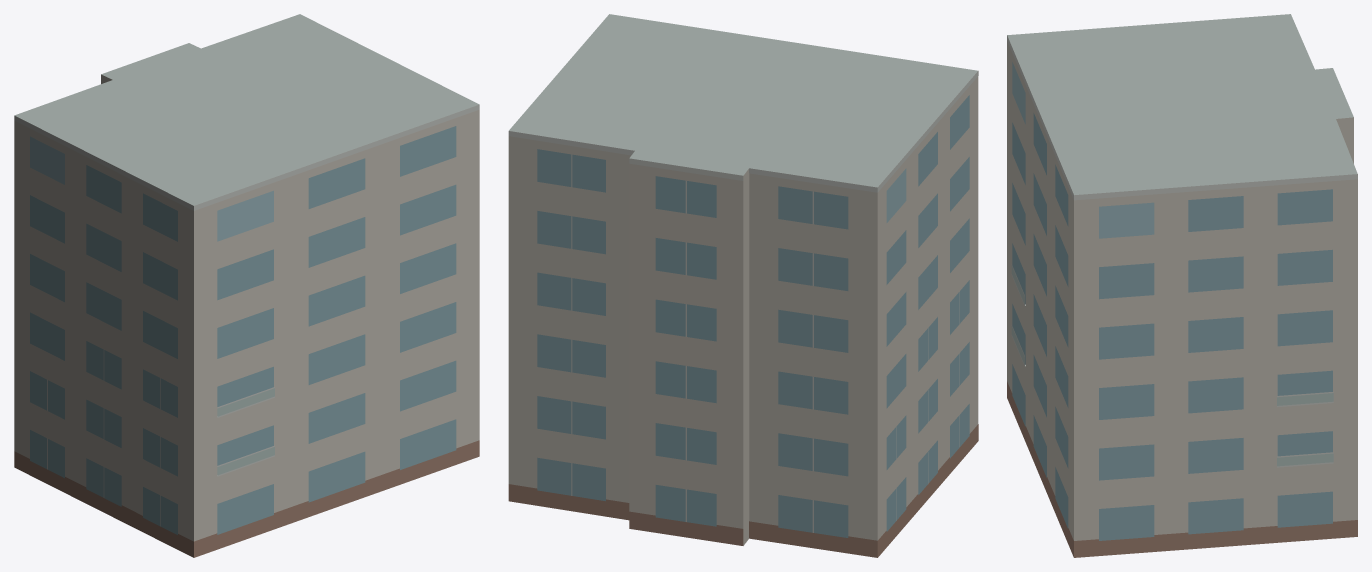
File: survey-upis-32743896.glb
3 views of the same model, side by side, from view 1: azimuth 30°, elevation 25°; view 2: azimuth 150°, elevation 25°; view 3: azimuth 270°, elevation 25° (orthographic). The views are drawn at different scales.
Visible parts, largest first — view 1: survey-upis-32743896.tmp; view 2: survey-upis-32743896.tmp; view 3: survey-upis-32743896.tmp.
Part boxes in pixels (<box>): survey-upis-32743896.tmp: <box>14,14,479,557</box>; survey-upis-32743896.tmp: <box>508,14,978,557</box>; survey-upis-32743896.tmp: <box>1007,14,1357,557</box>.
Bounding box in the file's own units: 18.33 × 17.1 × 15.
